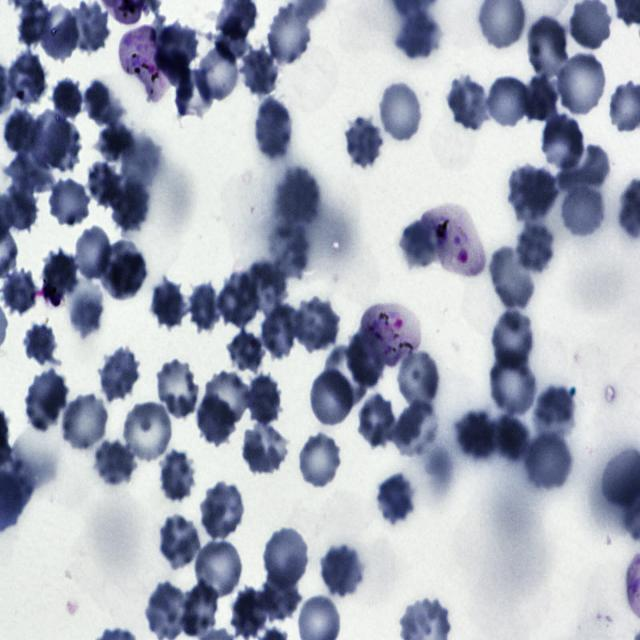red blood cell: (554, 51, 608, 118), (192, 538, 244, 600), (487, 351, 537, 414), (376, 80, 424, 145), (98, 239, 148, 301), (196, 481, 246, 542), (526, 15, 570, 82), (323, 344, 369, 408), (296, 431, 344, 492), (154, 358, 201, 420), (123, 403, 172, 462), (524, 429, 573, 488), (202, 370, 250, 429), (264, 527, 309, 588), (509, 163, 557, 220), (490, 246, 534, 308), (266, 2, 310, 64), (310, 367, 356, 426), (393, 399, 439, 458), (276, 165, 320, 226), (293, 296, 340, 353), (23, 372, 68, 431), (445, 74, 491, 131), (485, 74, 531, 131), (540, 113, 584, 171), (268, 218, 308, 281), (108, 176, 152, 233), (491, 312, 534, 370), (62, 394, 108, 448), (98, 346, 142, 402), (217, 271, 260, 328), (397, 350, 439, 408), (319, 544, 364, 598), (243, 262, 288, 316), (355, 393, 398, 449), (254, 97, 292, 160), (6, 50, 48, 107), (46, 177, 92, 229), (64, 2, 110, 54), (557, 144, 609, 190), (342, 115, 385, 170), (196, 46, 239, 101), (28, 110, 68, 169), (159, 514, 201, 570), (146, 583, 188, 639), (154, 24, 198, 76), (156, 450, 198, 504), (40, 249, 79, 307), (72, 226, 113, 281), (260, 572, 302, 624), (2, 154, 58, 193), (260, 305, 298, 362), (182, 578, 218, 638), (120, 136, 160, 190), (240, 47, 280, 100), (562, 185, 604, 235), (243, 426, 288, 472), (570, 1, 612, 50), (245, 372, 283, 426), (195, 394, 236, 444), (398, 217, 438, 268), (42, 5, 79, 60), (346, 332, 382, 388), (150, 278, 188, 331), (44, 120, 83, 171), (396, 12, 439, 58), (1, 266, 39, 318), (94, 439, 136, 486), (520, 74, 560, 123), (84, 79, 124, 128), (377, 473, 414, 525), (1, 182, 38, 233), (86, 160, 124, 209), (456, 412, 496, 458), (491, 414, 531, 460), (516, 222, 553, 271), (186, 284, 222, 334), (231, 587, 266, 638), (227, 331, 266, 376), (70, 290, 104, 338), (4, 108, 38, 154), (96, 122, 134, 163), (52, 76, 84, 123), (536, 386, 574, 424), (24, 324, 56, 365)
trophozoite: (420, 204, 485, 276), (359, 302, 422, 369), (120, 24, 164, 101)
